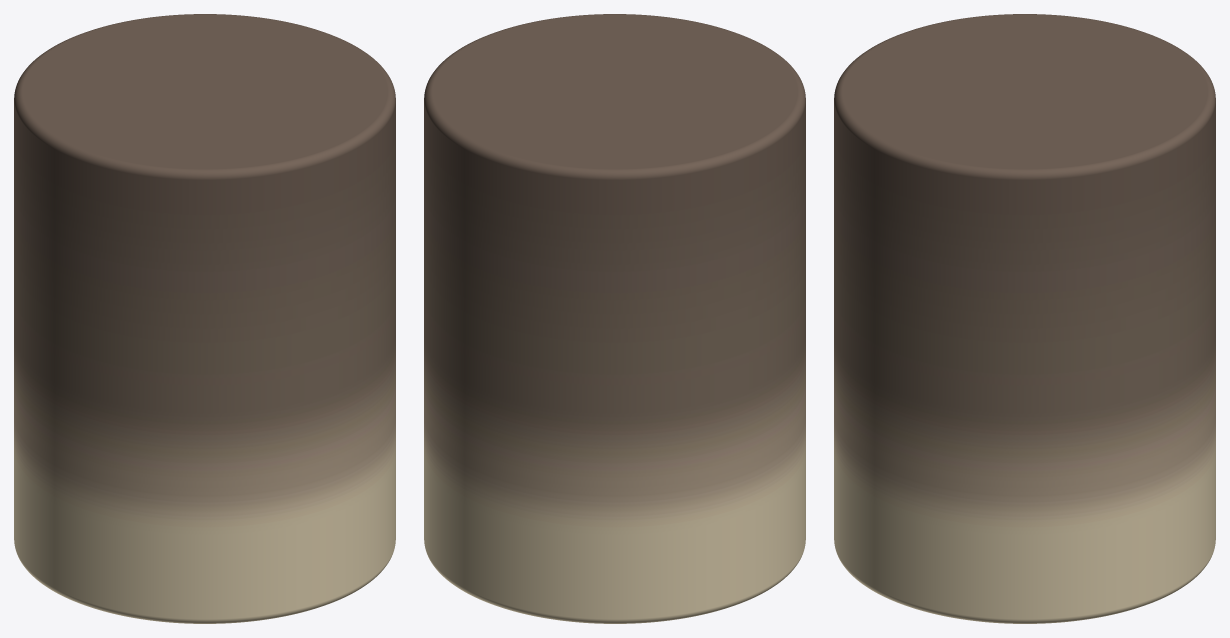
The model's file is rook-black-hd.glb.
3 views of the same model, side by side, from view 1: azimuth 30°, elevation 25°; view 2: azimuth 150°, elevation 25°; view 3: azimuth 270°, elevation 25° (orthographic).
Visible parts, largest first — view 1: MONOLITH Věž – Kouř (černý); view 2: MONOLITH Věž – Kouř (černý); view 3: MONOLITH Věž – Kouř (černý).
Part boxes in pixels (x1,y1,x2,y2): MONOLITH Věž – Kouř (černý): [14, 14, 395, 623]; MONOLITH Věž – Kouř (černý): [424, 14, 805, 623]; MONOLITH Věž – Kouř (černý): [834, 14, 1215, 623].
Bounding box in the file's own units: 0.7086 × 0.93 × 0.7086.
Materials: 1 (1 with a texture image).
